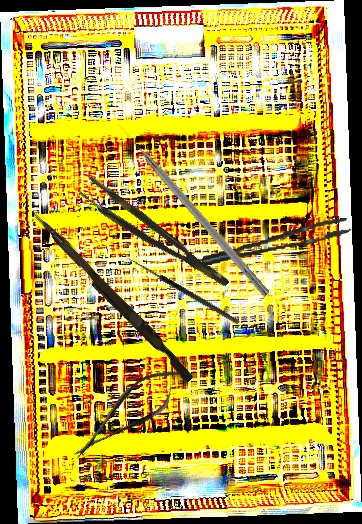Hook Surgical: (115, 120, 272, 299), (122, 255, 241, 331)
Micro Scissor: (61, 356, 192, 471)
Pusher: (25, 210, 199, 384)
Tissue Forceps: (76, 174, 232, 300), (199, 217, 353, 266)
